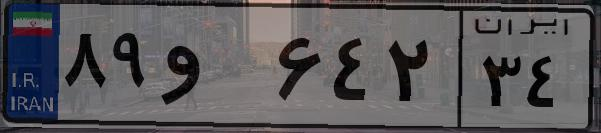2: (385, 28, 445, 110)
3: (475, 38, 525, 113)
4: (330, 28, 385, 110), (525, 38, 570, 115)
6: (270, 28, 330, 110)
8: (57, 26, 110, 100)
9: (110, 28, 158, 98)
و: (158, 20, 270, 120)
